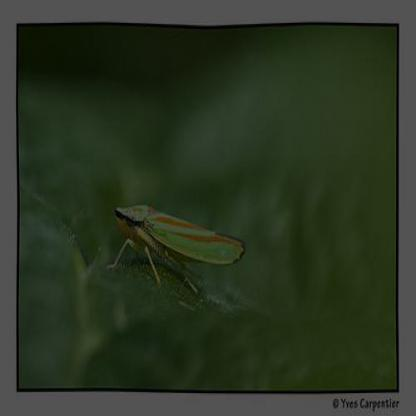green-leafhopper: (112, 198, 250, 298)
